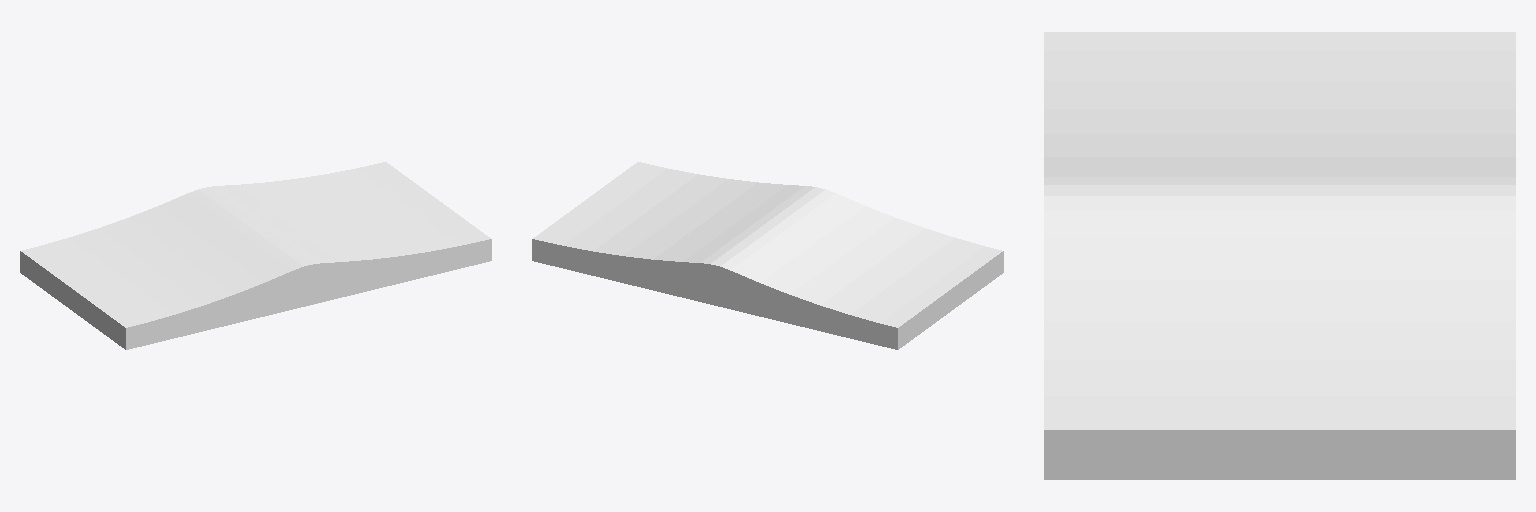
The robot description file, URDF, robot "artifacts_workpiece_description":

<robot name="artifacts_workpiece_description">
  <link name="workpiece_base_link">
    <inertial>
      <origin
        xyz="-1.5374E-17 -2.7756E-17 0.01175"
        rpy="0 0 0" />
      <mass
        value="1.0157" />
      <inertia
        ixx="0.0019588"
        ixy="2.7945E-19"
        ixz="4.059E-17"
        iyy="0.0064555"
        iyz="2.7208E-20"
        izz="0.0083055" />
    </inertial>
    <visual>
      <origin
        xyz="0 0 0"
        rpy="0 0 0" />
      <geometry>
        <mesh
          filename="package://artifacts_workpiece_description/meshes/workpiece_base_link.STL" />
      </geometry>
      <material
        name="">
        <color
          rgba="1 1 1 1" />
      </material>
    </visual>
    <collision>
      <origin
        xyz="0 0 0"
        rpy="0 0 0" />
      <geometry>
        <mesh
          filename="package://artifacts_workpiece_description/meshes/workpiece_base_link.STL" />
      </geometry>
    </collision>
  </link>
</robot>

--- Render facts (derived) ---
Views: 3 orthographic renders of the robot side by side, from view 1: azimuth 30°, elevation 25°; view 2: azimuth 150°, elevation 25°; view 3: azimuth 270°, elevation 25°.
Robot: artifacts_workpiece_description — 1 links, 0 joints (none); root link workpiece_base_link; default pose: all joints at 0.
Visible links, largest first — view 1: workpiece_base_link; view 2: workpiece_base_link; view 3: workpiece_base_link.
Link boxes in pixels (box(x1,y1,x2,y2)): workpiece_base_link: box(20, 162, 491, 349); workpiece_base_link: box(532, 162, 1003, 349); workpiece_base_link: box(1044, 32, 1515, 479).
Bounding box of the posed robot: 0.3 × 0.15 × 0.0316 m (x, y, z).
1 mesh visuals loaded from 1 distinct referenced files (1 binary STL).
